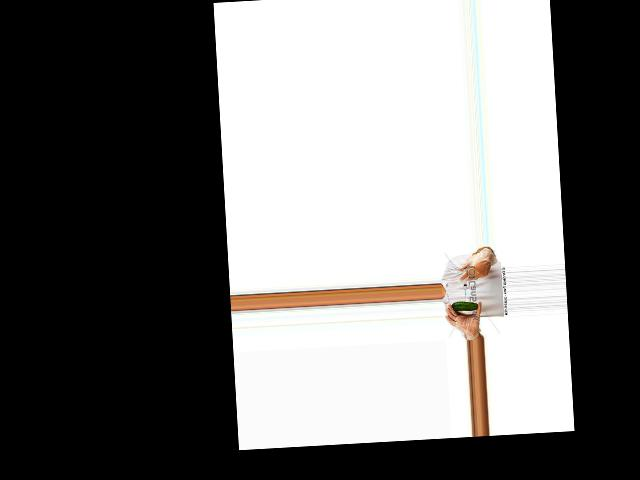cucumber: (451, 301, 478, 312)
